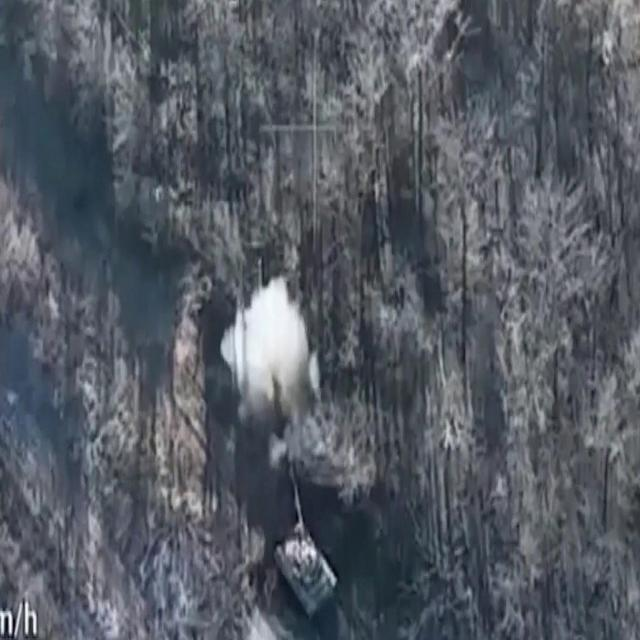tank: (274, 520, 338, 622)
